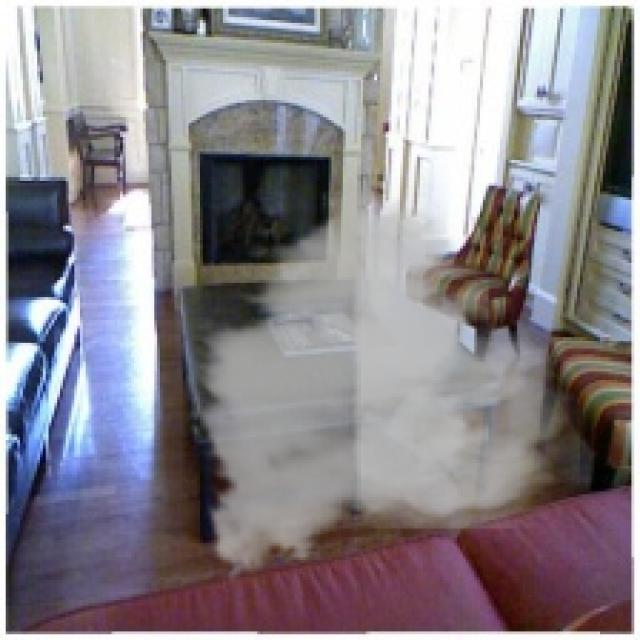Smoke: (183, 174, 580, 592)
